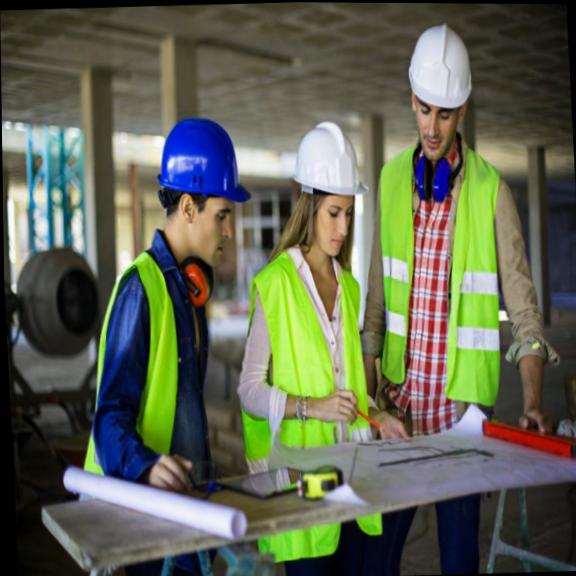safety_vest: (239, 254, 383, 558), (82, 235, 220, 523), (373, 149, 515, 414)
